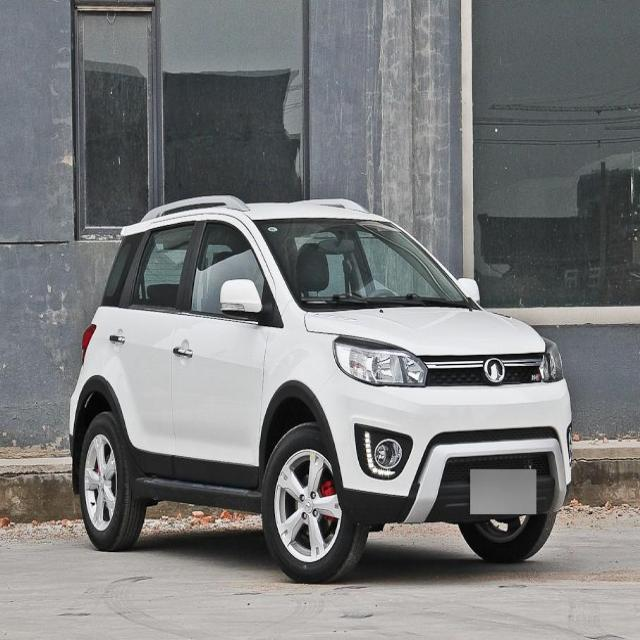back_left_side_light: (80, 322, 96, 372)
door: (109, 220, 201, 482)
front_bumper: (327, 376, 574, 524)
front_glass: (253, 217, 471, 310)
front_left_side_light: (538, 334, 565, 384)
front_left_side_mirror: (456, 276, 483, 307)
front_right_side_door: (170, 210, 276, 492)
front_right_side_light: (332, 334, 429, 388)
front_right_side_mirror: (219, 278, 267, 323)
wheel: (263, 423, 363, 585), (78, 412, 144, 551), (456, 510, 558, 559)
